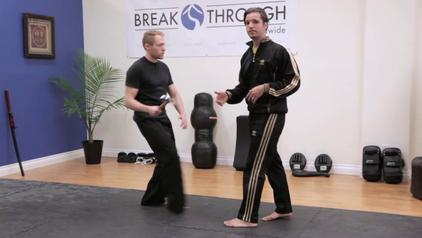down: (286, 152, 344, 178)
